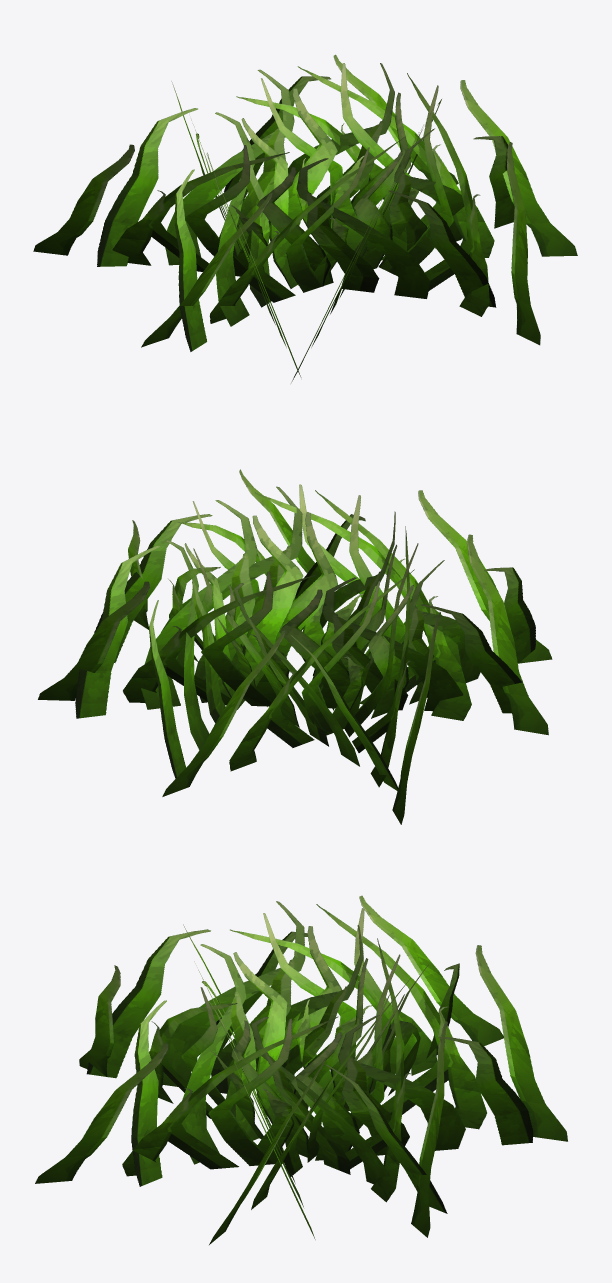
Rendered from grass-short.fbx.
3 renders of one model, top to bottom at view 1: azimuth 30°, elevation 25°; view 2: azimuth 150°, elevation 25°; view 3: azimuth 270°, elevation 25°, orthographic. The views are drawn at different scales.
Parts seen in each view (by area): view 1: HoB-grass-texture.005; view 2: HoB-grass-texture.005; view 3: HoB-grass-texture.005.
Boxes of the visible parts, left/top/right/bottom form: HoB-grass-texture.005: left=33, top=54, right=577, bottom=382; HoB-grass-texture.005: left=38, top=469, right=552, bottom=824; HoB-grass-texture.005: left=35, top=895, right=567, bottom=1244.
Bounding box in the file's own units: 176 × 58.21 × 174.
1 material, 1 textured.
